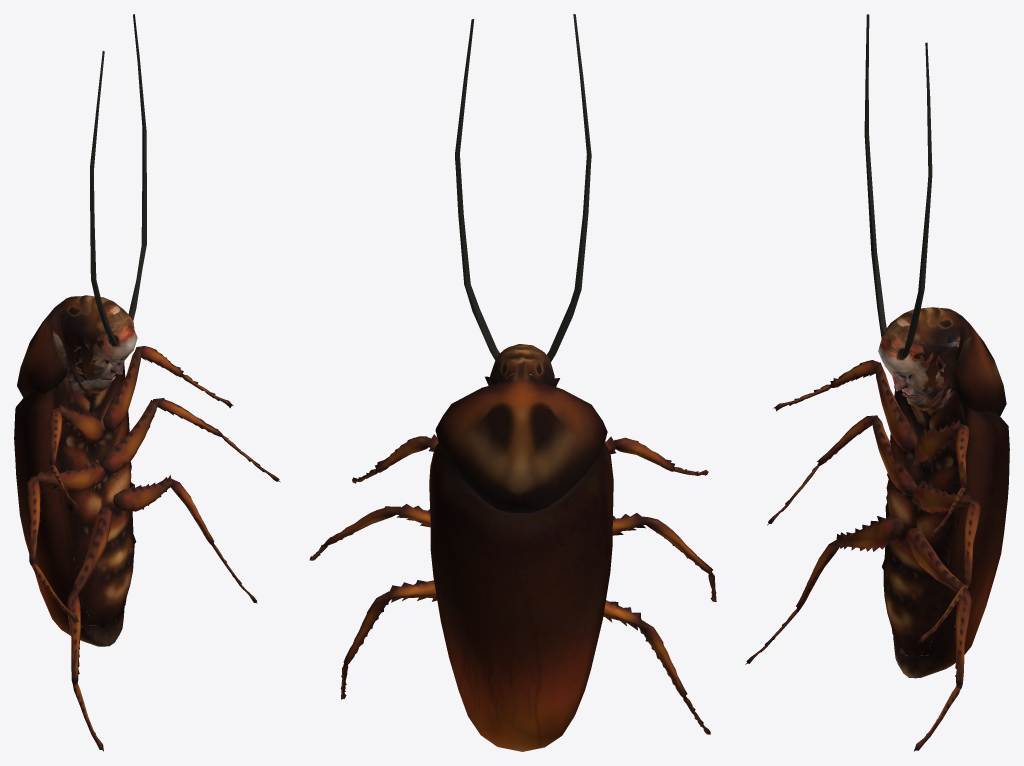
Rendered from gurl1.glb.
3 views of the same model, side by side, from view 1: azimuth 30°, elevation 25°; view 2: azimuth 150°, elevation 25°; view 3: azimuth 270°, elevation 25° (orthographic). The views are drawn at different scales.
Parts seen in each view (by area): view 1: mesh0.dat; view 2: mesh0.dat; view 3: mesh0.dat.
Part boxes in pixels (x1=…): mesh0.dat: x1=14, y1=14, x2=280, y2=751; mesh0.dat: x1=309, y1=14, x2=716, y2=751; mesh0.dat: x1=745, y1=14, x2=1009, y2=751.
Size of the model in its own units: 6.5 by 13.52 by 4.75.
Materials: 8 (8 with a texture image).
